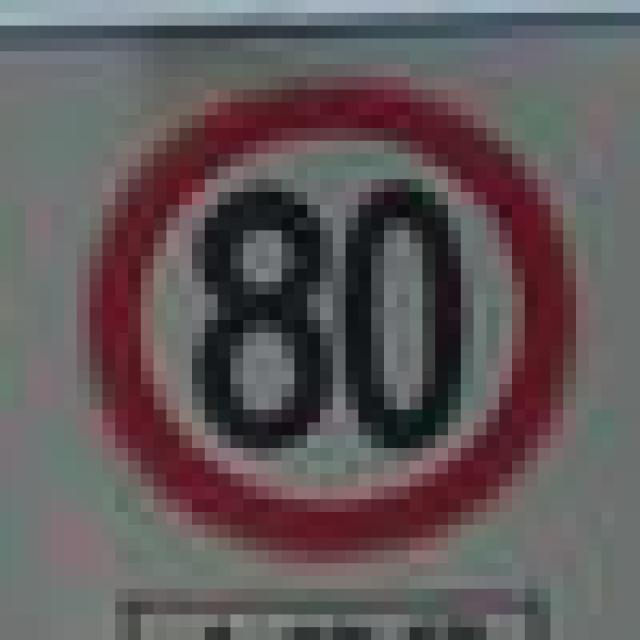speed_limit_50: (64, 52, 589, 550)
